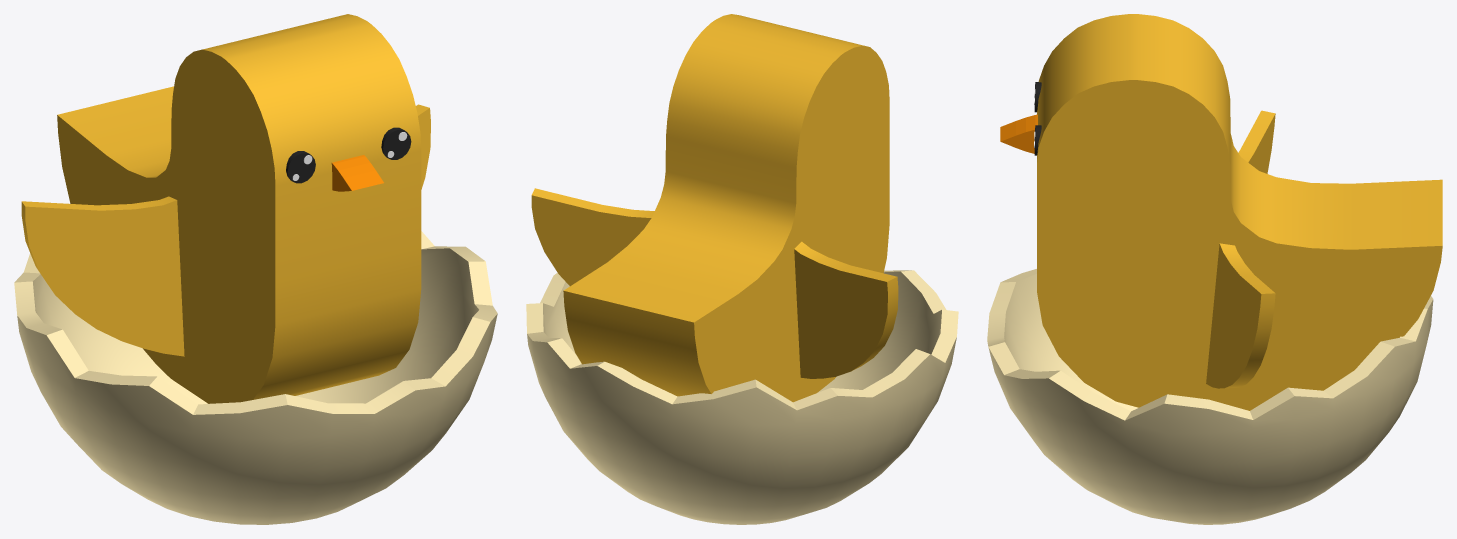
The model's file is hatching_chick.glb.
The picture shows the model from 3 angles, left to right: view 1: azimuth 30°, elevation 25°; view 2: azimuth 150°, elevation 25°; view 3: azimuth 270°, elevation 25°; orthographic projection. The views are drawn at different scales.
Visible parts, largest first — view 1: Cube.6279; view 2: Cube.6279; view 3: Cube.6279.
Boxes of the visible parts, x1,y1,x2,y2 form: Cube.6279: (14, 14, 497, 524); Cube.6279: (526, 14, 958, 524); Cube.6279: (987, 14, 1442, 524).
Size of the model in its own units: 2.02 by 2.25 by 2.04.
1 material, 1 textured.
